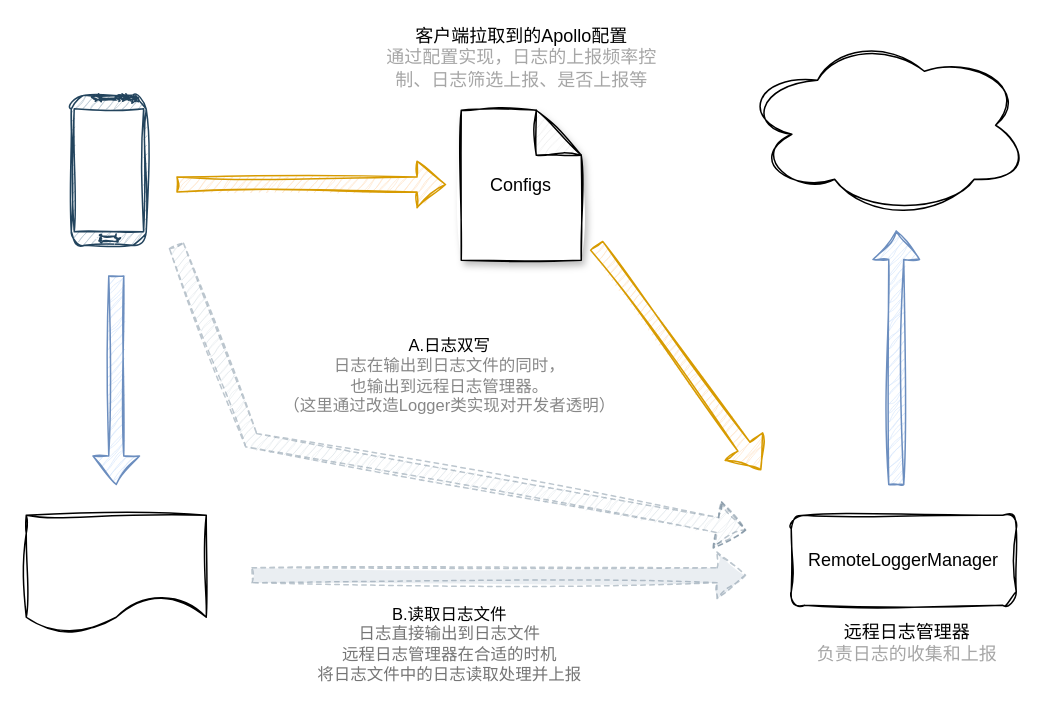
This 1058x710 diagram has some shape labels left out. Here are the shapes that lost their labels. From the top down, the centre of each, then its label:
point (888, 124): 远程日志服务
point (115, 574): 日志文件
